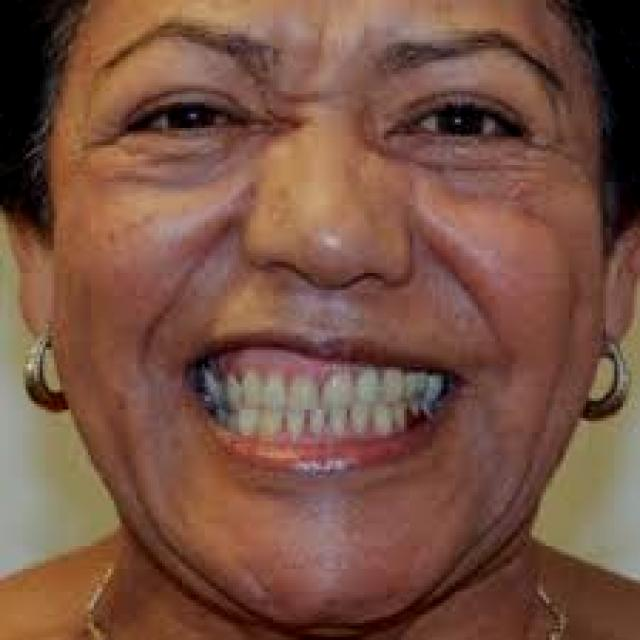normal_face: (49, 0, 586, 633)
